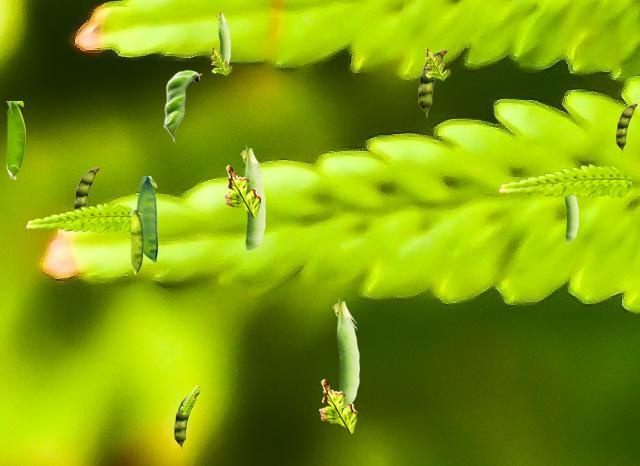pea: (332, 298, 358, 407), (163, 70, 201, 142), (240, 145, 264, 250), (418, 49, 446, 116), (136, 176, 156, 262), (6, 101, 24, 178), (174, 394, 198, 449), (74, 167, 98, 208), (616, 103, 636, 152), (130, 210, 142, 273), (216, 11, 229, 64), (564, 195, 577, 241)
